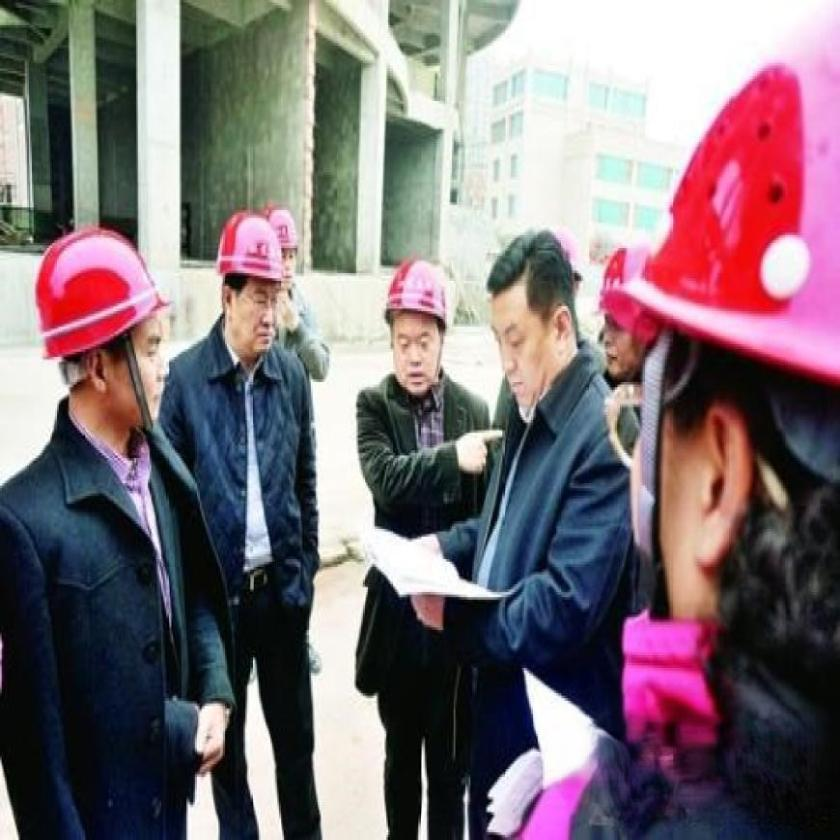Con_casco: (601, 9, 840, 631), (27, 220, 174, 450), (212, 209, 292, 376), (380, 254, 453, 403)
Sin_casco: (480, 229, 583, 409)
